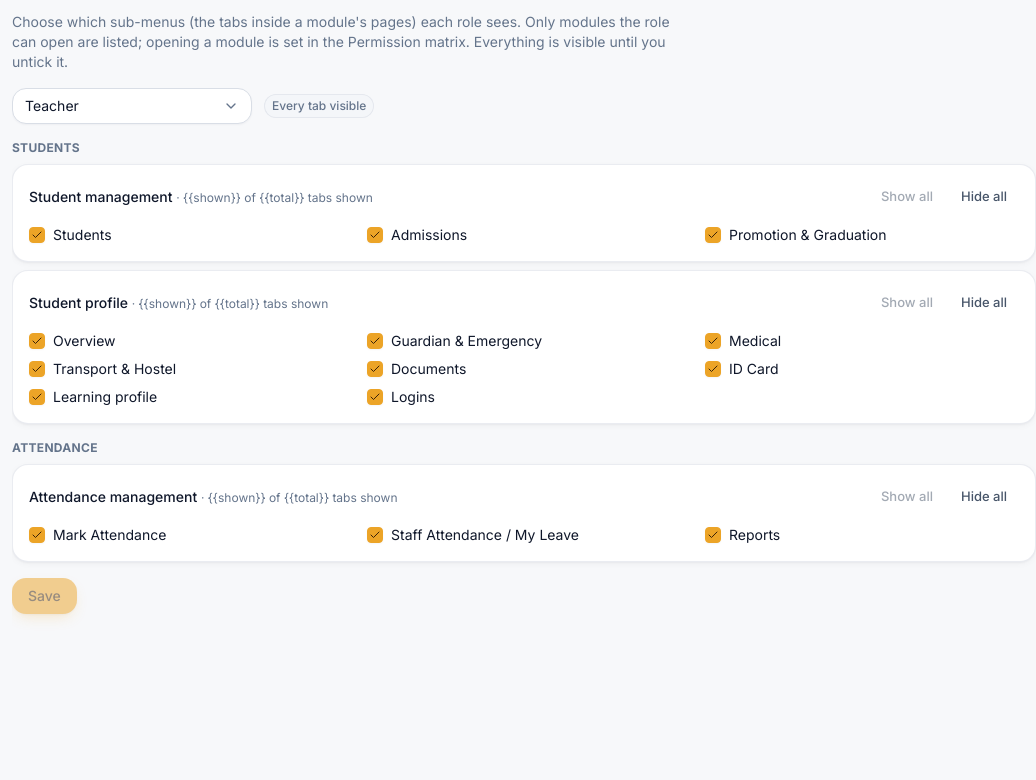
SubMenusTab › shows the administrator role as locked with every tab on
Check: the text "Student management" is shown, box x1=29 y1=188 x2=172 y2=205
Click the dropdown labelled "Teacher".
click(132, 106)  # box x1=12 y1=88 x2=252 y2=124
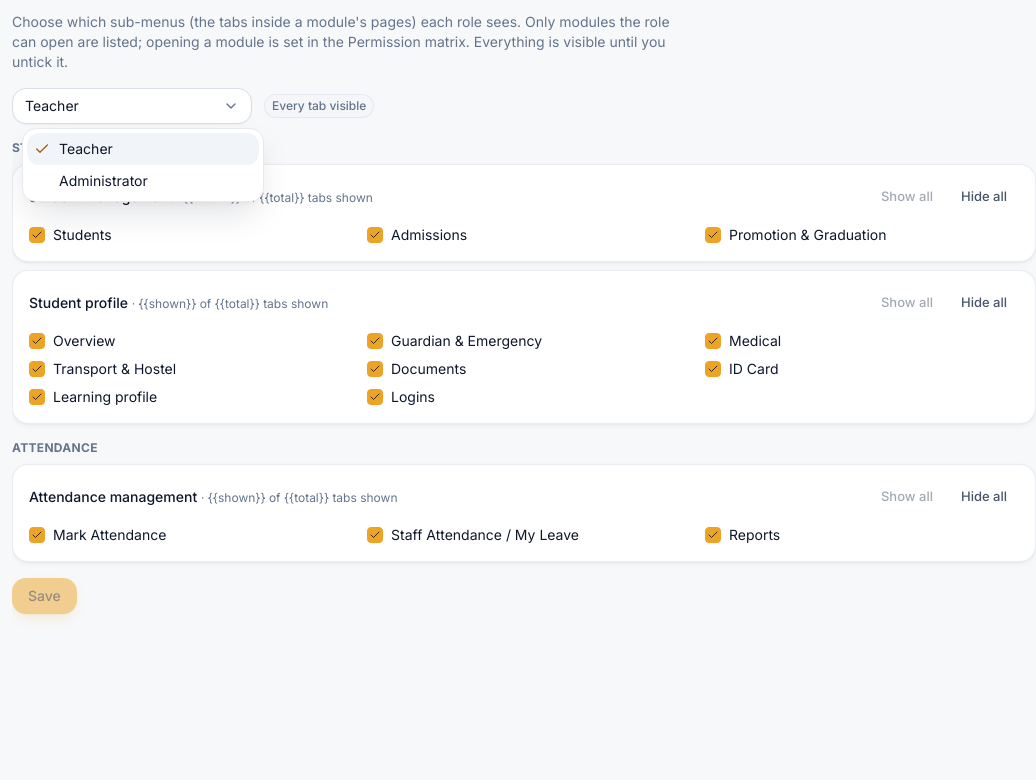
Click the option "Administrator".
click(103, 180)  # box x1=59 y1=172 x2=148 y2=189
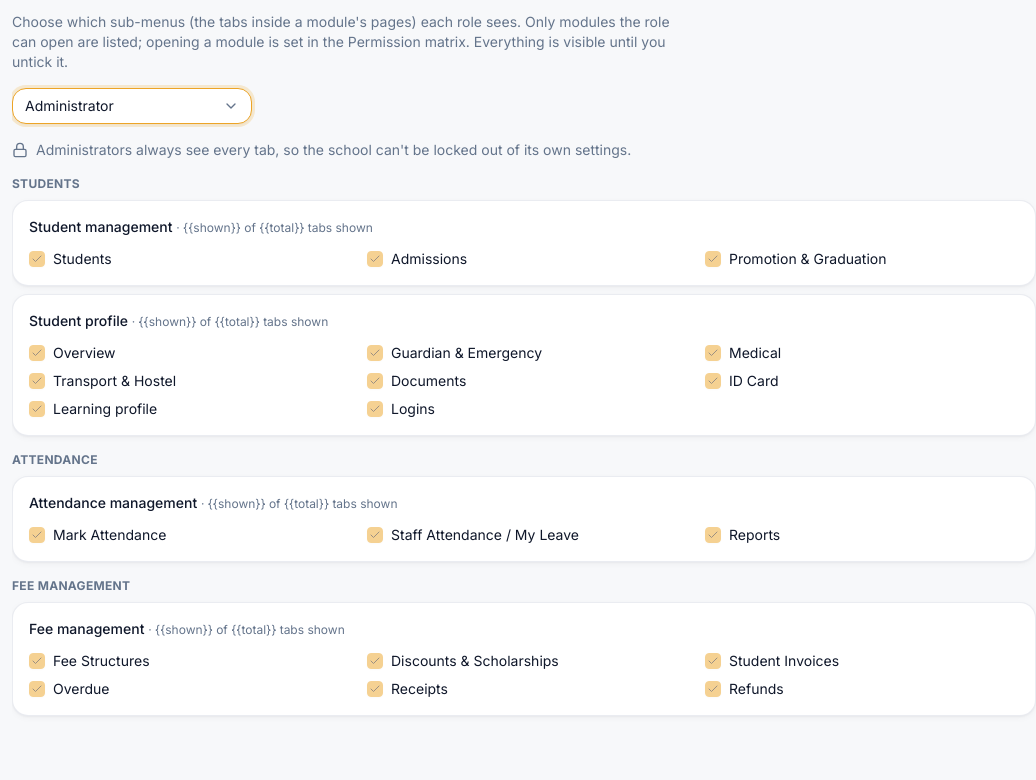
Check: the text "always see every tab" is shown, box x1=36 y1=141 x2=631 y2=158
Check: the checkbox named "Fee management: Refunds" is disabled, box x1=705 y1=681 x2=721 y2=697
Check: the checkbox named "Fee management: Refunds" is checked, box x1=705 y1=681 x2=721 y2=697
